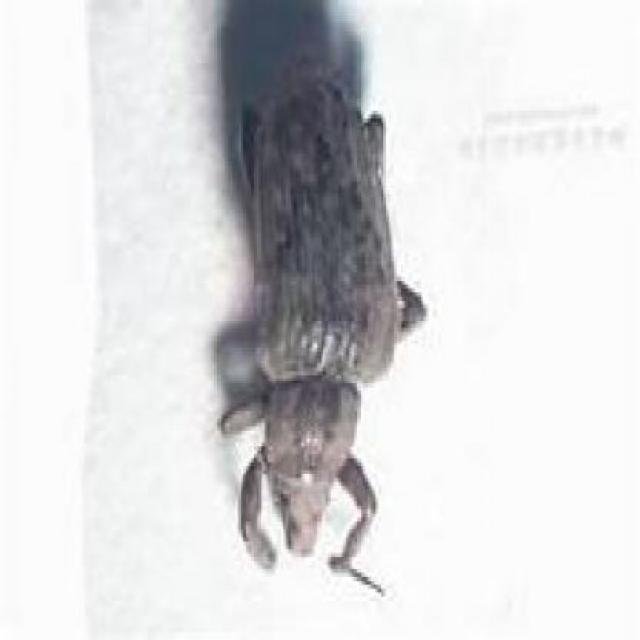rice-bug: (214, 69, 426, 585)
